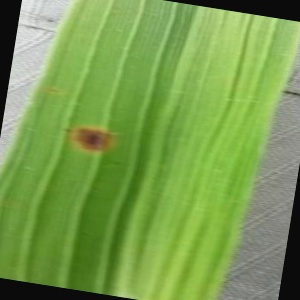Bacterial_Leaf_Blight: (67, 118, 124, 164), (46, 85, 64, 96), (61, 123, 73, 135)
